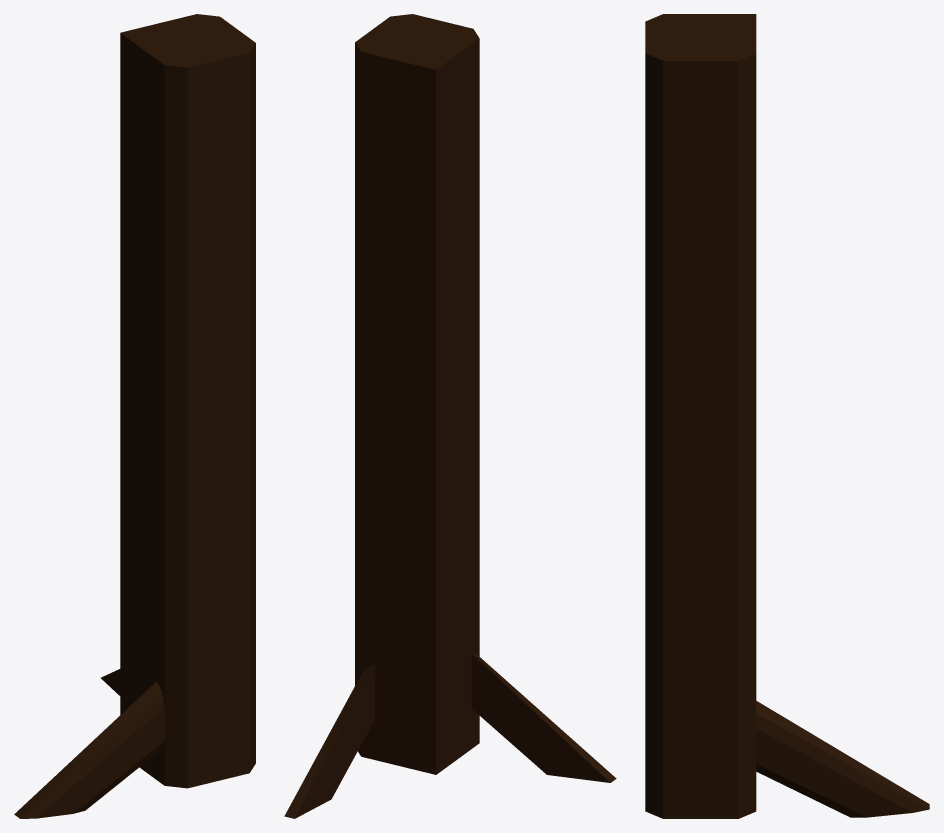
Rendered from Beam_Corner02_FBX.fbx.
3 renders of one model, left to right at view 1: azimuth 30°, elevation 25°; view 2: azimuth 150°, elevation 25°; view 3: azimuth 270°, elevation 25°, orthographic. The views are drawn at different scales.
Visible parts, largest first — view 1: Box159, Box160; view 2: Box159, Box160, Box161; view 3: Box159, Box161.
Boxes of the visible parts, x1=… form: Box159: x1=120, y1=14, x2=255, y2=788; Box160: x1=14, y1=682, x2=164, y2=818; Box159: x1=355, y1=14, x2=479, y2=774; Box160: x1=471, y1=652, x2=616, y2=782; Box161: x1=284, y1=664, x2=375, y2=818; Box159: x1=645, y1=14, x2=756, y2=818; Box161: x1=756, y1=701, x2=929, y2=817.
Size of the model in its own units: 153 by 455 by 153.
